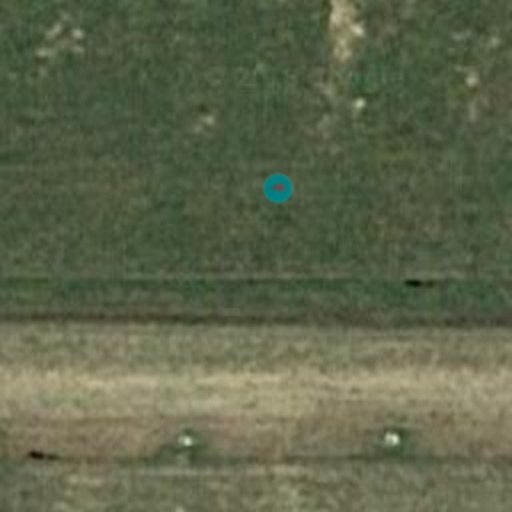circle: (256, 166, 300, 210)
